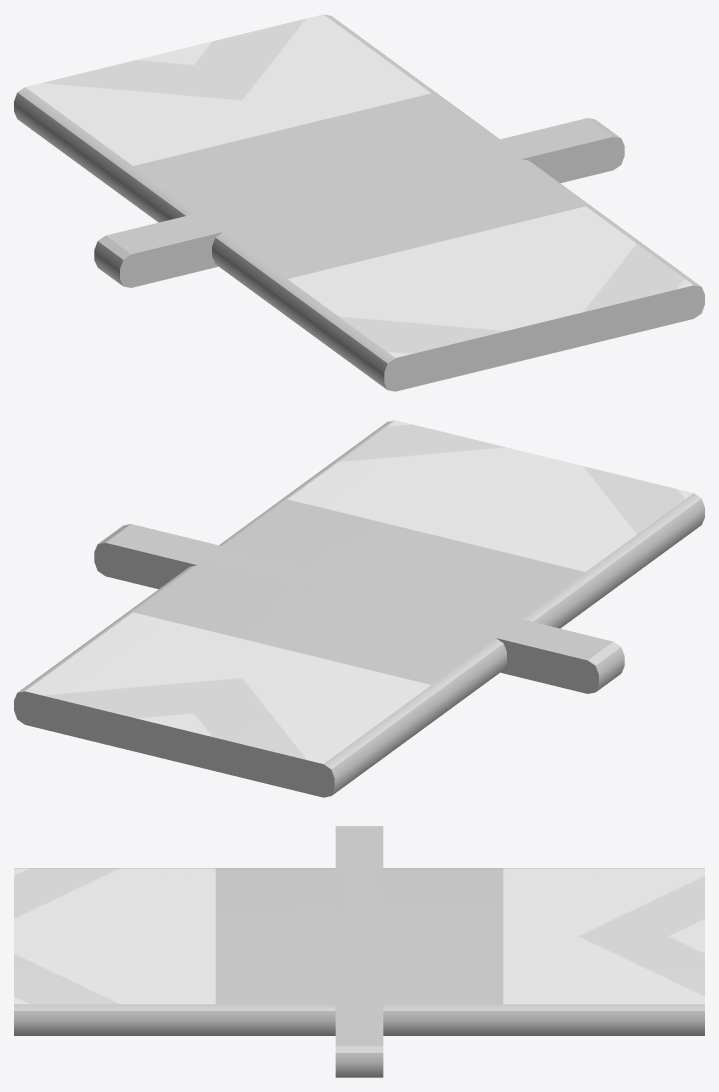
The model's file is floor_straight_checkpoint.fbx.
3 views of the same model, one above another, from view 1: azimuth 30°, elevation 25°; view 2: azimuth 150°, elevation 25°; view 3: azimuth 270°, elevation 25° (orthographic). The views are drawn at different scales.
Parts seen in each view (by area): view 1: floor_straight_checkpoint; view 2: floor_straight_checkpoint; view 3: floor_straight_checkpoint.
Boxes of the visible parts, box(x1,y1,x2,y2) form: floor_straight_checkpoint: box(14, 14, 704, 391); floor_straight_checkpoint: box(14, 420, 704, 797); floor_straight_checkpoint: box(14, 826, 704, 1077).
Bounding box in the file's own units: 787 × 50 × 1000.
2 materials, 1 textured.
